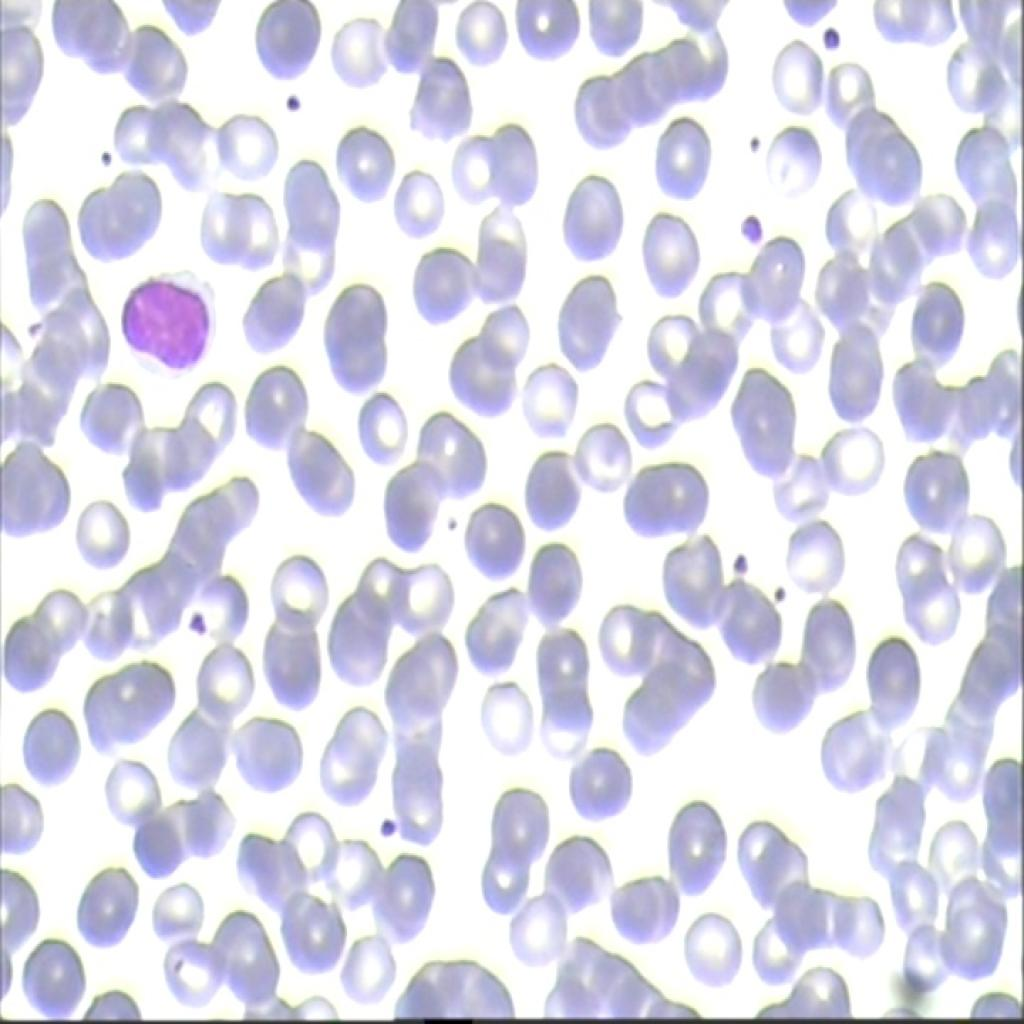Limfosit: (114, 252, 230, 377)
Platelet: (717, 194, 768, 250), (812, 16, 866, 64), (363, 804, 411, 852), (762, 572, 798, 628), (272, 76, 312, 121), (730, 124, 766, 160), (721, 537, 751, 578), (176, 597, 200, 647), (94, 140, 122, 174)
